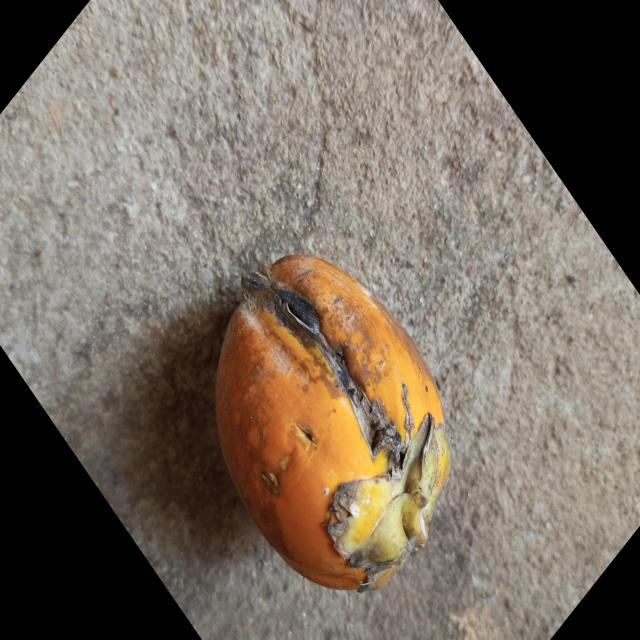damaged: (214, 256, 451, 594)
